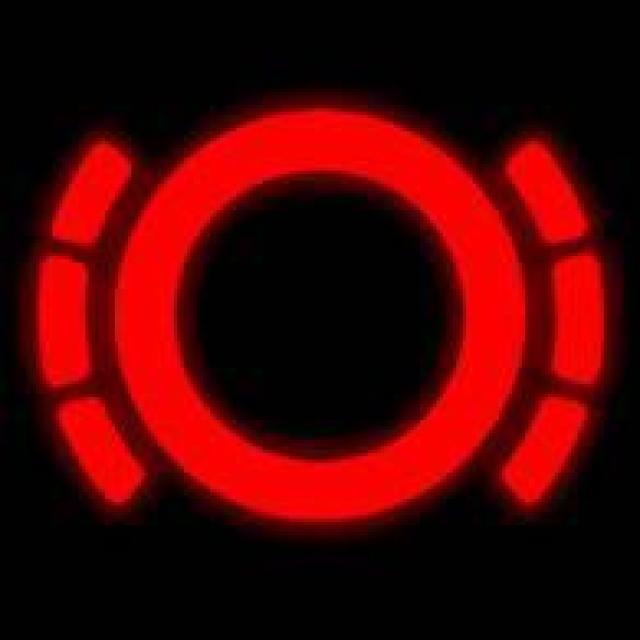kontrolka: (25, 74, 625, 534)
